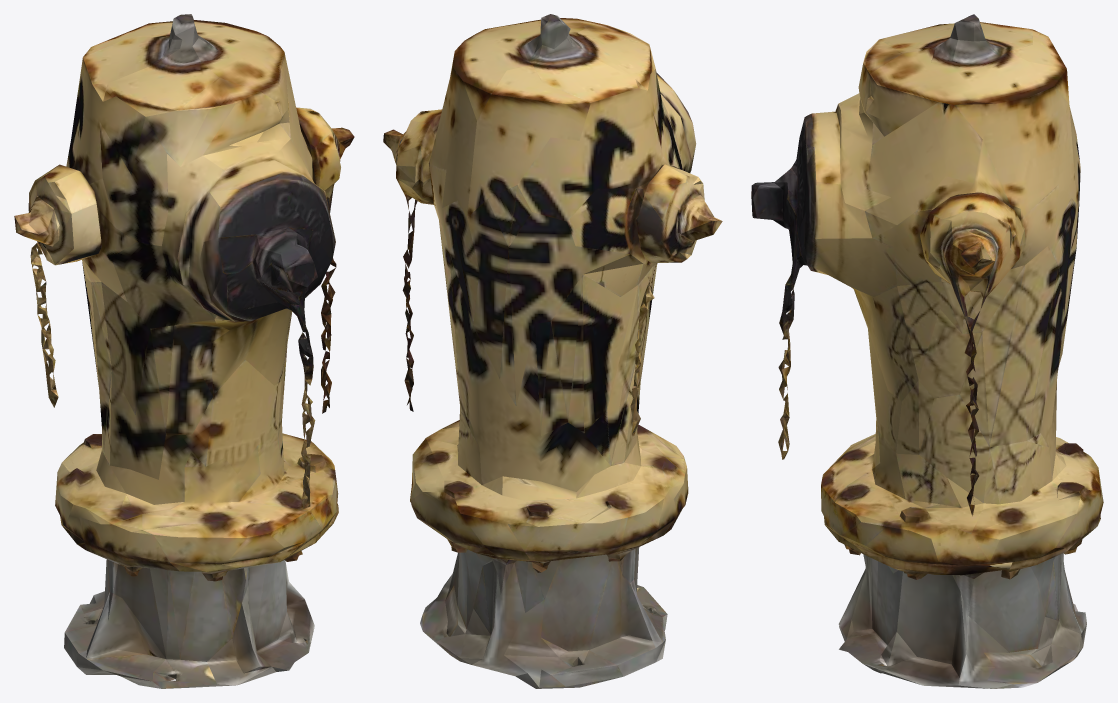
The model's file is hydrant.glb.
3 renders of one model, left to right at view 1: azimuth 30°, elevation 25°; view 2: azimuth 150°, elevation 25°; view 3: azimuth 270°, elevation 25°, orthographic.
Parts seen in each view (by area): view 1: output_unwrapped; view 2: output_unwrapped; view 3: output_unwrapped.
Part boxes in pixels (x1,y1,x2,y2): output_unwrapped: [14, 14, 354, 688]; output_unwrapped: [383, 14, 722, 688]; output_unwrapped: [751, 14, 1103, 688].
Bounding box in the file's own units: 0.5021 × 0.9 × 0.4583.
Materials: 1 (1 with a texture image).
